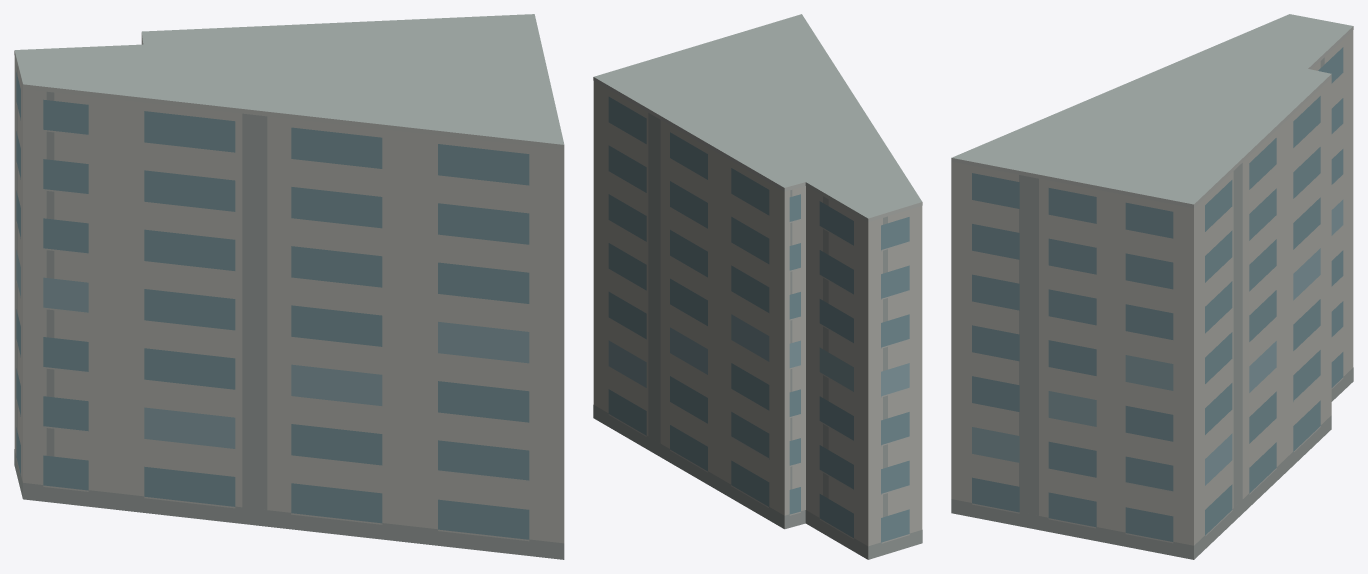
Rendered from survey-upis-32527878.glb.
The picture shows the model from 3 angles, left to right: view 1: azimuth 30°, elevation 25°; view 2: azimuth 150°, elevation 25°; view 3: azimuth 270°, elevation 25°; orthographic projection. The views are drawn at different scales.
Parts seen in each view (by area): view 1: survey-upis-32527878.tmp; view 2: survey-upis-32527878.tmp; view 3: survey-upis-32527878.tmp.
Boxes of the visible parts, bbox=[...] form: survey-upis-32527878.tmp: bbox=[14, 14, 564, 559]; survey-upis-32527878.tmp: bbox=[593, 14, 922, 559]; survey-upis-32527878.tmp: bbox=[951, 14, 1353, 559].
Size of the model in its own units: 24.55 by 21.35 by 21.9.
